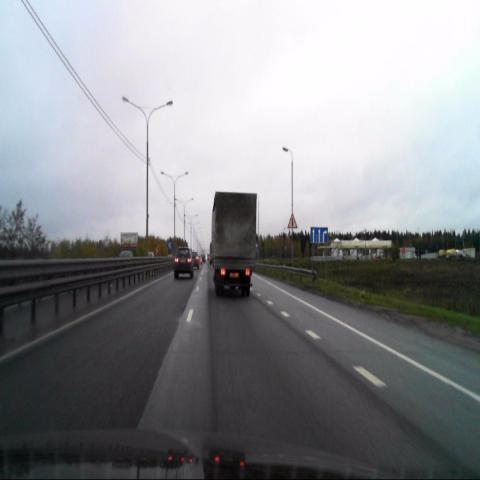5_15_1: (310, 226, 328, 243)
